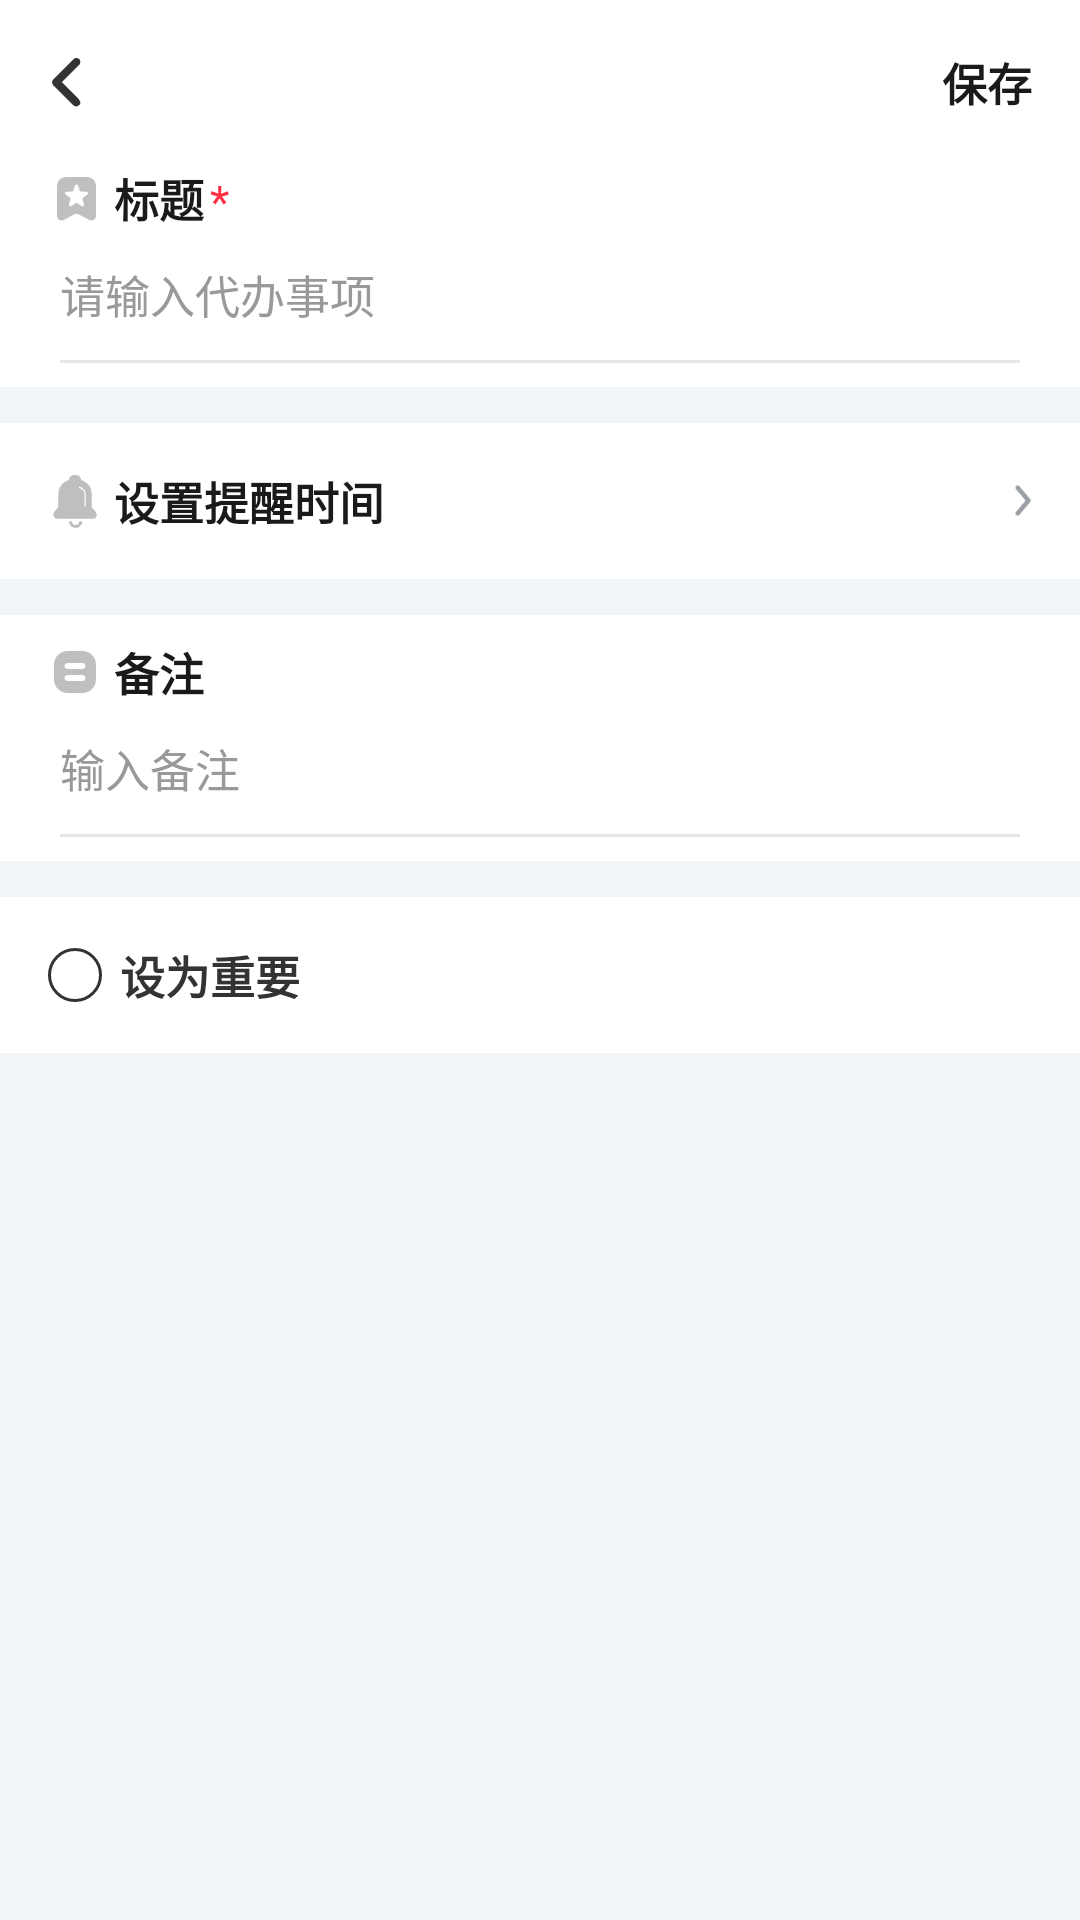

Named icons in this screenshot (1080px×1920px) and their centers, (x=x, y=y):
titlebar back: (x=66, y=82)
